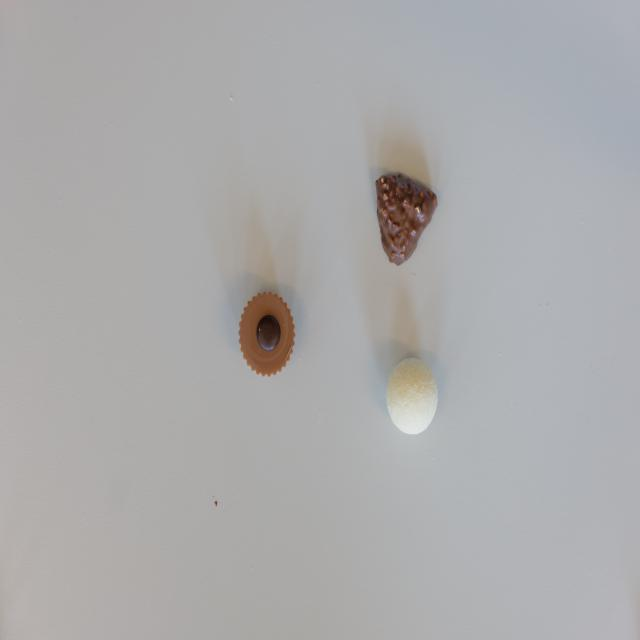Comtesse: (387, 358, 438, 436)
Noblesse: (238, 289, 296, 378)
Triangolo: (375, 170, 438, 266)
